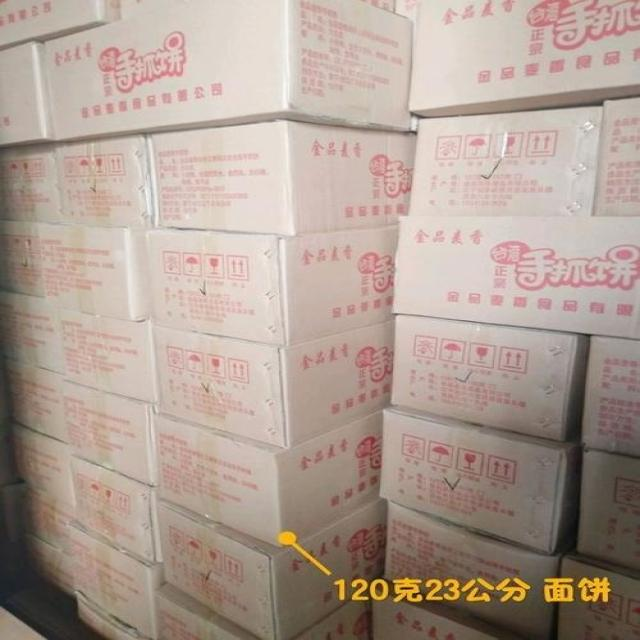box: (44, 0, 416, 143), (147, 316, 396, 446), (159, 497, 384, 639), (156, 407, 382, 545), (149, 221, 395, 347), (142, 123, 418, 235), (378, 406, 586, 553), (395, 212, 639, 337), (412, 3, 639, 122), (380, 500, 572, 636), (394, 314, 587, 439), (411, 103, 605, 215), (34, 223, 155, 322), (53, 306, 157, 404), (74, 520, 159, 639), (64, 380, 157, 487), (74, 449, 159, 564), (376, 583, 555, 637), (54, 135, 157, 227), (0, 416, 78, 520), (577, 448, 639, 570), (559, 548, 638, 637), (584, 334, 639, 458), (16, 487, 77, 596), (2, 581, 106, 639), (155, 580, 258, 638), (1, 0, 117, 51), (0, 39, 53, 146), (6, 357, 70, 444), (3, 137, 65, 225), (1, 291, 63, 378), (593, 100, 636, 215), (306, 584, 377, 638), (1, 220, 45, 296), (74, 598, 132, 639), (0, 480, 26, 569), (365, 1, 418, 22)
